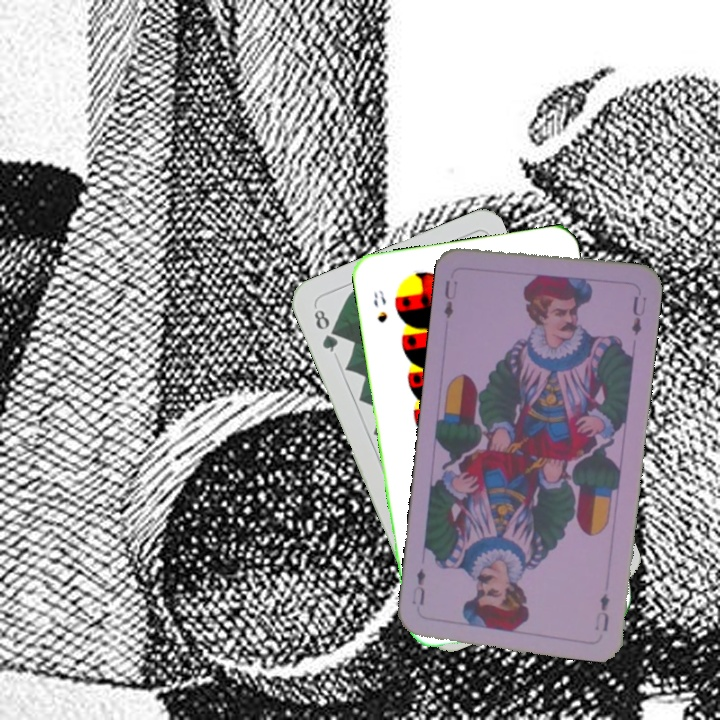EU: (590, 590, 612, 634), (439, 276, 460, 321)
G8: (309, 305, 341, 355)
S8: (369, 286, 390, 326)
